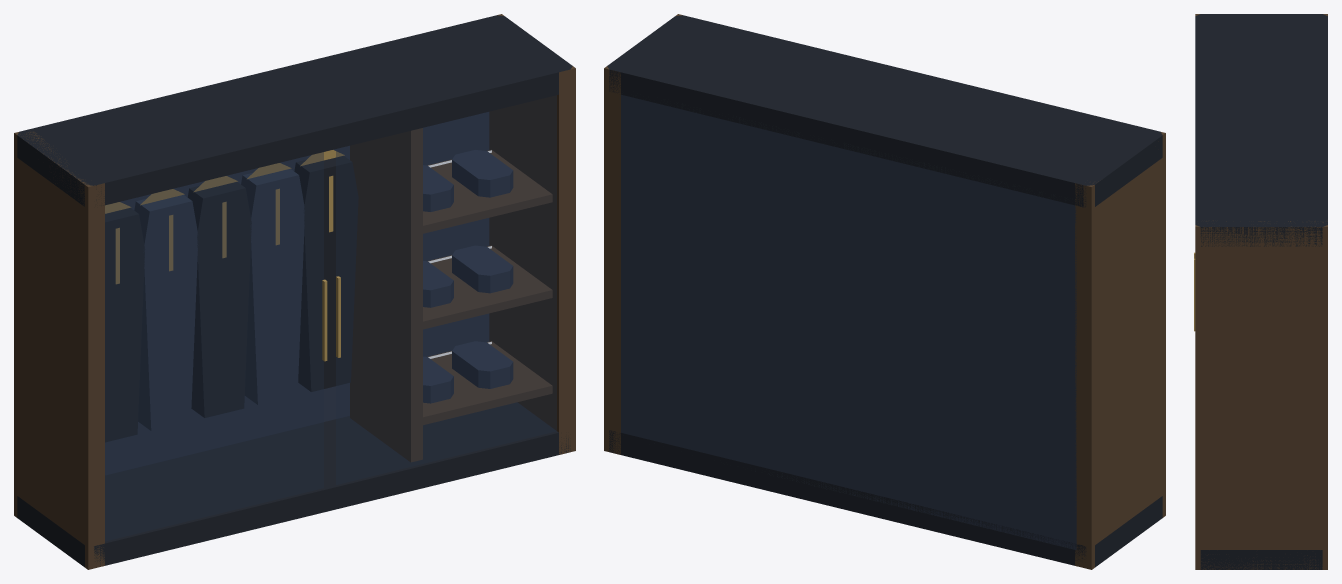
The model's file is res_wardrobe_glass.glb.
3 renders of one model, left to right at view 1: azimuth 30°, elevation 25°; view 2: azimuth 150°, elevation 25°; view 3: azimuth 270°, elevation 25°, orthographic. The views are drawn at different scales.
Parts seen in each view (by area): view 1: glass_door, cabinet_cap, accessory_shelf, recessed_back, tailored_uniform.001, clothing_rail; view 2: recessed_back, cabinet_cap, accessory_shelf; view 3: accessory_shelf, cabinet_cap.
Boxes of the visible parts, <box> form: glass_door: <box>105,95,556,541</box>; cabinet_cap: <box>17,15,572,567</box>; accessory_shelf: <box>14,14,575,569</box>; recessed_back: <box>105,112,513,475</box>; tailored_uniform.001: <box>134,165,304,430</box>; clothing_rail: <box>105,150,344,361</box>; recessed_back: <box>621,93,1076,549</box>; cabinet_cap: <box>607,15,1162,567</box>; accessory_shelf: <box>604,14,1165,569</box>; accessory_shelf: <box>1195,14,1327,569</box>; cabinet_cap: <box>1195,14,1327,569</box>.
Bounding box in the file's own units: 3.2 × 2.4 × 0.85.
